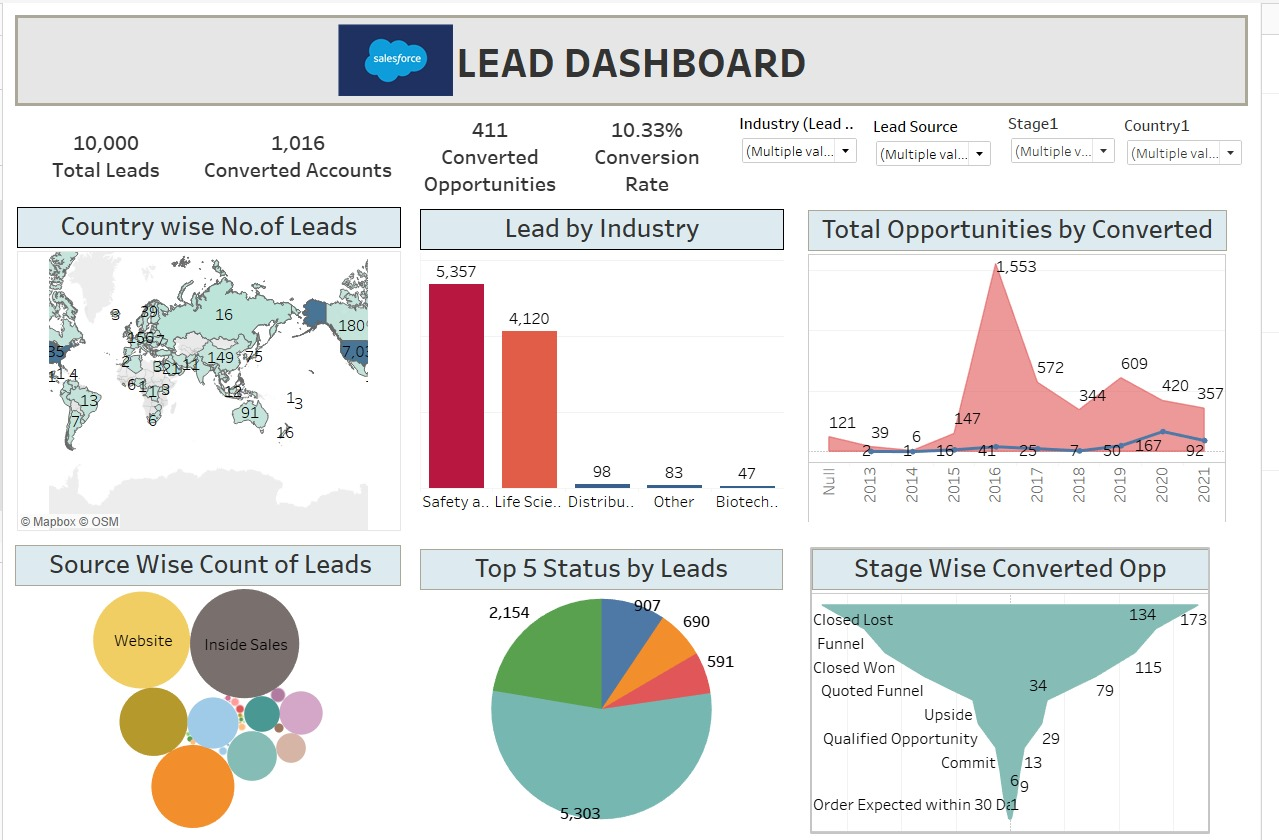

This screenshot's page, from the dashboard's own definition file:
{"tool":"powerbi","page":{"name":"Lead Dashboard","canvas":[1280,720],"ordinal":0},"visuals":[{"type":"shape","box":[0,0,1280.6,78.1],"z":0},{"type":"card","fields":{"Values":["Lead Measures.Conversion Rate"]},"box":[510,78.6,251.4,114.3],"z":1000},{"type":"card","fields":{"Values":["CountNonNull(project lead_cleaned.Lead ID)"]},"box":[11,78.2,204.1,114.9],"z":2000},{"type":"card","fields":{"Values":["Sum(project lead_cleaned.# Converted Accounts)"]},"box":[771.4,78.6,228.6,114.3],"z":3000},{"type":"card","fields":{"Values":["Sum(project lead_cleaned.# Converted Opportunities)"]},"box":[1010.9,78.2,250.6,114.9],"z":4000},{"type":"columnChart","fields":{"Y":["CountNonNull(project lead_cleaned.Lead ID)"],"Category":["project lead_cleaned.Industry"]},"box":[11,212.7,429.1,217.6],"z":5000},{"type":"donutChart","fields":{"Category":["project lead_cleaned.Lead Source"],"Y":["CountNonNull(project lead_cleaned.Lead ID)"]},"box":[456.9,212.7,428.1,218.2],"z":6000},{"type":"map","fields":{"Category":["project lead_cleaned.Country"],"Size":["Sum(project lead_cleaned.Total Leads)"]},"box":[11.4,457.1,428.6,250],"z":7000},{"type":"treemap","fields":{"Values":["Sum(project lead_cleaned.Total Leads)"],"Group":["project lead_cleaned.Status"]},"box":[457,457,428,250],"z":8000},{"type":"map","fields":{"Category":["project lead_cleaned.City"],"Size":["Sum(project lead_cleaned.# Converted Accounts)"]},"box":[900,212.9,361.4,218.6],"z":9000},{"type":"slicer","fields":{"Values":["Opp_table.Close Date.Variation.Date Hierarchy.Month"]},"box":[899.7,601.4,361.8,106.3],"z":10000},{"type":"slicer","fields":{"Values":["Opp_table.Forecast Category1"]},"box":[899.7,457.2,361.8,107.6],"z":11000},{"type":"card","fields":{"Values":["Lead Measures.Expected amount from conversion"]},"box":[235.9,77,256.7,114.9],"z":12000}]}

Visuals, with their boxes on the page's 1280x720 design canvas (x1, y1, x2, y2). These are canvas units, not pixel positions in the 1279x840 screenshot, which may show the page scaled, cropped or inside an application window:
shape: locate(0, 0, 1281, 78)
card - Lead Measures.Conversion Rate: locate(510, 79, 761, 193)
card - CountNonNull(project lead_cleaned.Lead ID): locate(11, 78, 215, 193)
card - Sum(project lead_cleaned.# Converted Accounts): locate(771, 79, 1000, 193)
card - Sum(project lead_cleaned.# Converted Opportunities): locate(1011, 78, 1262, 193)
columnChart - CountNonNull(project lead_cleaned.Lead ID) x project lead_cleaned.Industry: locate(11, 213, 440, 430)
donutChart - project lead_cleaned.Lead Source x CountNonNull(project lead_cleaned.Lead ID): locate(457, 213, 885, 431)
map - project lead_cleaned.Country x Sum(project lead_cleaned.Total Leads): locate(11, 457, 440, 707)
treemap - Sum(project lead_cleaned.Total Leads) x project lead_cleaned.Status: locate(457, 457, 885, 707)
map - project lead_cleaned.City x Sum(project lead_cleaned.# Converted Accounts): locate(900, 213, 1261, 432)
slicer - Opp_table.Close Date.Variation.Date Hierarchy.Month: locate(900, 601, 1262, 708)
slicer - Opp_table.Forecast Category1: locate(900, 457, 1262, 565)
card - Lead Measures.Expected amount from conversion: locate(236, 77, 493, 192)
